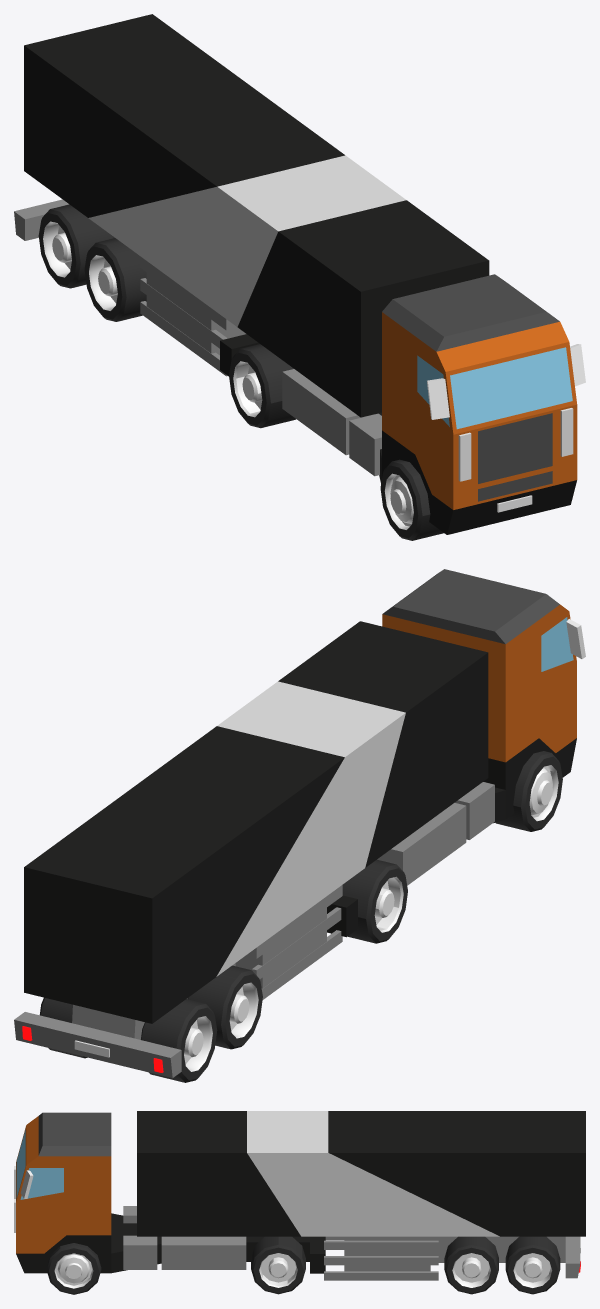
File: Car5.fbx
The picture shows the model from 3 angles, top to bottom: view 1: azimuth 30°, elevation 25°; view 2: azimuth 150°, elevation 25°; view 3: azimuth 270°, elevation 25°; orthographic projection. The views are drawn at different scales.
Visible parts, largest first — view 1: lorry cart, Plane.001, lorry cart.001, Plane.003, lorry cart.002, Plane.002; view 2: lorry cart, Plane.001, Plane.003, lorry cart.001, lorry cart.002, Plane.002, lorry cart.003; view 3: lorry cart, Plane.001, lorry cart.003, lorry cart.004, Plane.005, Plane.004.
Part boxes in pixels (box(x1,y1,x2,y2)): lorry cart: box(14, 14, 489, 417); Plane.001: box(220, 274, 585, 534); lorry cart.001: box(84, 238, 146, 321); Plane.003: box(229, 344, 295, 428); lorry cart.002: box(38, 204, 114, 288); Plane.002: box(380, 459, 443, 540); lorry cart: box(14, 621, 488, 1078); Plane.001: box(327, 569, 585, 937); Plane.003: box(342, 859, 407, 943); lorry cart.001: box(187, 965, 262, 1049); lorry cart.002: box(141, 999, 217, 1082); Plane.002: box(495, 751, 562, 831); lorry cart.003: box(39, 997, 87, 1058); lorry cart: box(137, 1111, 585, 1280); Plane.001: box(14, 1112, 325, 1273); lorry cart.003: box(505, 1236, 560, 1294); lorry cart.004: box(444, 1236, 498, 1294); Plane.005: box(251, 1236, 305, 1294); Plane.004: box(46, 1243, 101, 1294).
Bounding box in the file's own units: 556 × 726 × 2634.
